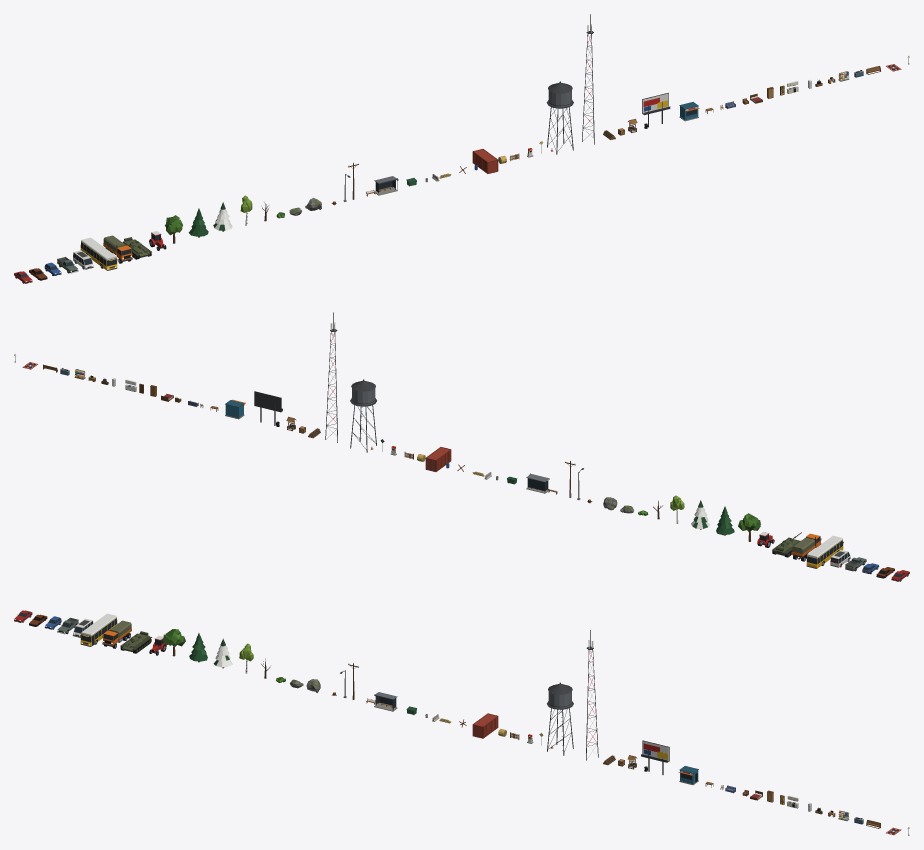
Rendered from fracture_models.glb.
3 views of the same model, one above another, from view 1: azimuth 30°, elevation 25°; view 2: azimuth 150°, elevation 25°; view 3: azimuth 330°, elevation 25° (orthographic).
Visible parts, largest first — view 1: water_tower, bus, radio_mast; view 2: water_tower, bus, radio_mast; view 3: water_tower, bus, radio_mast, truck, billboard, container.
Part boxes in pixels (x1,y1,x2,y2): water_tower: (546,81,573,154); bus: (80,237,117,270); radio_mast: (582,14,594,144); water_tower: (350,379,376,452); bus: (806,535,843,568); radio_mast: (325,312,337,442); water_tower: (547,682,573,755); bus: (80,613,117,646); radio_mast: (586,630,598,760); truck: (102,620,131,648); billboard: (641,740,669,774); container: (472,713,498,738).
Size of what is drawn, in the model's own units: 205 by 28.35 by 10.84.
